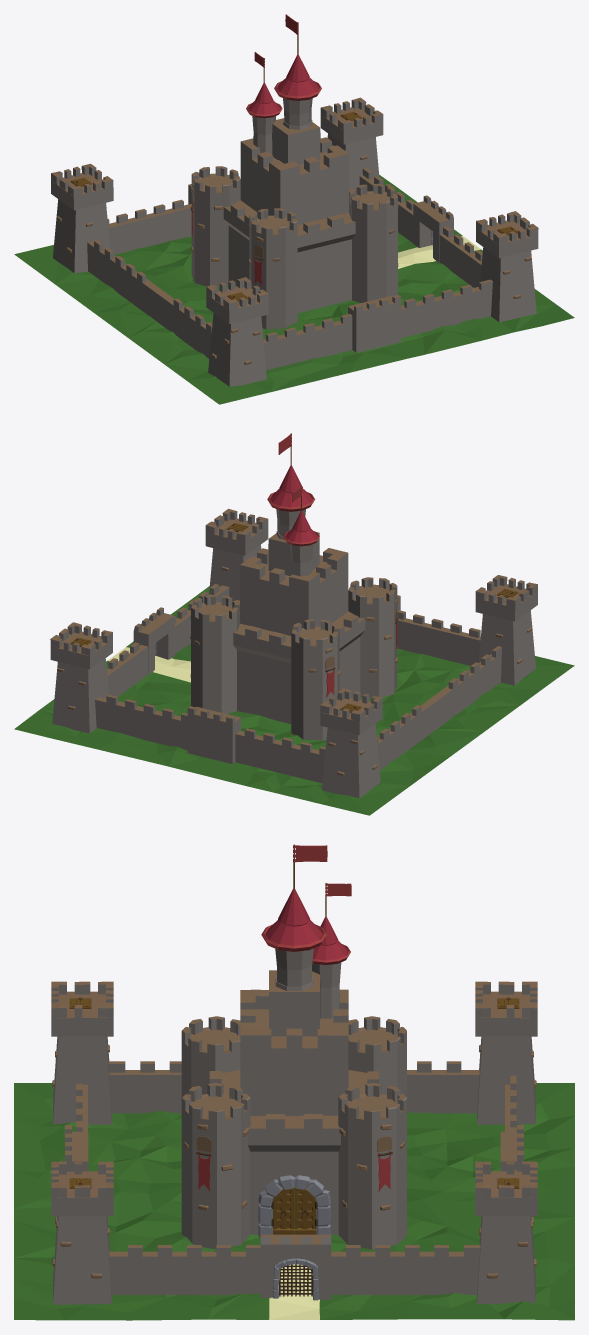
Rendered from castle.fbx.
The picture shows the model from 3 angles, top to bottom: view 1: azimuth 30°, elevation 25°; view 2: azimuth 150°, elevation 25°; view 3: azimuth 270°, elevation 25°; orthographic projection. The views are drawn at different scales.
Visible parts, largest first — view 1: Plane, Plane.002, Plane.010, Plane.007, Plane.006, Circle.003, castle.003, Plane.003, castle.001, Plane.005, Plane.004, Plane.001 (+3 smaller); view 2: Plane, Plane.002, Plane.008, Plane.003, Plane.001, castle.002, castle.001, Plane.007, castle.003, Plane.005, Plane.004, Plane.006 (+3 smaller); view 3: Plane, Plane.002, Plane.004, Circle.003, castle.002, Plane.006, Plane.001, Plane.003, Plane.007, Plane.005, castle, Circle.004 (+5 smaller).
Boxes of the visible parts, <box> form: Plane: <box>14,175,574,404</box>; Plane.002: <box>223,118,355,312</box>; Plane.010: <box>263,279,492,370</box>; Plane.007: <box>206,277,268,386</box>; Plane.006: <box>476,211,538,322</box>; Circle.003: <box>349,183,398,302</box>; castle.003: <box>248,208,297,329</box>; Plane.003: <box>51,163,113,273</box>; castle.001: <box>190,166,240,286</box>; Plane.005: <box>87,240,212,358</box>; Plane.004: <box>359,167,482,287</box>; Plane.001: <box>320,97,383,189</box>; Plane: <box>14,586,574,815</box>; Plane.002: <box>233,532,365,723</box>; Plane.008: <box>95,694,325,783</box>; Plane.003: <box>320,688,382,798</box>; Plane.001: <box>50,622,112,733</box>; castle.002: <box>190,595,239,713</box>; castle.001: <box>291,619,340,740</box>; Plane.007: <box>475,575,537,685</box>; castle.003: <box>348,577,398,697</box>; Plane.005: <box>376,646,501,770</box>; Plane.004: <box>106,584,229,696</box>; Plane.006: <box>205,508,268,601</box>; Plane: <box>14,1083,574,1320</box>; Plane.002: <box>209,970,379,1234</box>; Plane.004: <box>109,1234,480,1299</box>; Circle.003: <box>181,1083,250,1249</box>; castle.002: <box>338,1083,406,1249</box>; Plane.006: <box>51,1161,113,1304</box>; Plane.001: <box>475,1161,537,1304</box>; Plane.003: <box>475,981,537,1124</box>; Plane.007: <box>51,981,113,1124</box>; Plane.005: <box>108,1061,479,1113</box>; castle: <box>258,1175,330,1300</box>; Circle.004: <box>261,844,327,990</box>.
Size of the model in its own units: 2389 by 1707 by 2389.
